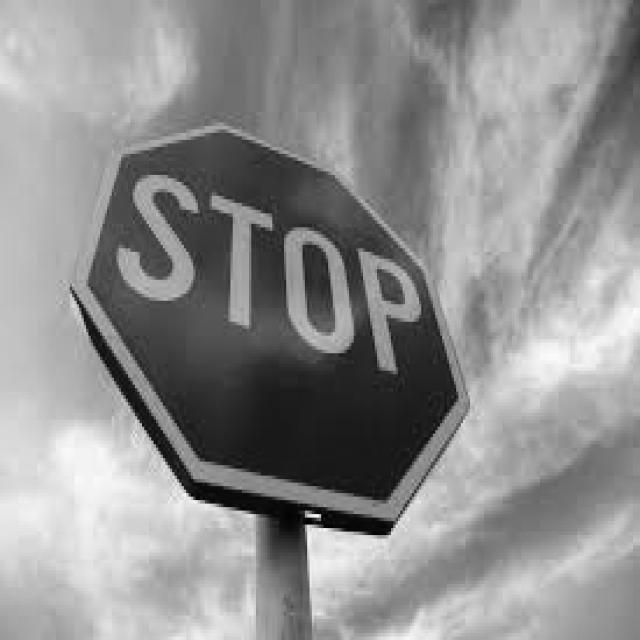stop sign: (77, 122, 473, 549)
